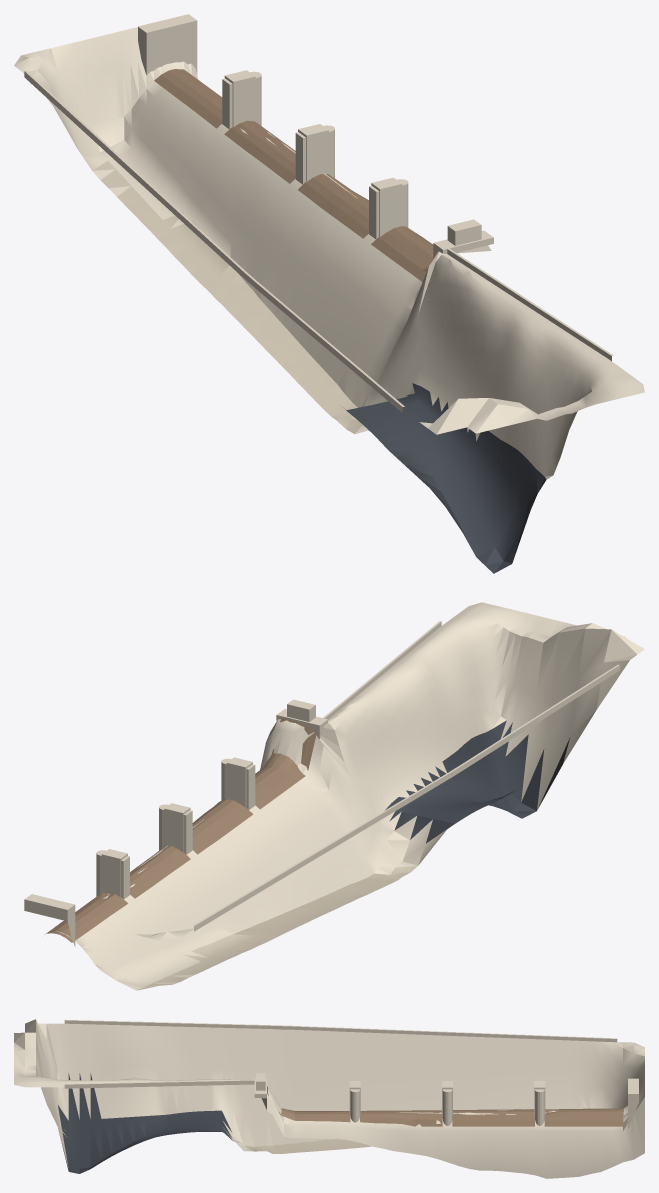
The model's file is lv-hoover-dam-nevada-spillway.glb.
3 renders of one model, top to bottom at view 1: azimuth 30°, elevation 25°; view 2: azimuth 150°, elevation 25°; view 3: azimuth 270°, elevation 25°, orthographic. The views are drawn at different scales.
Visible parts, largest first — view 1: Nevada Spillway; view 2: Nevada Spillway; view 3: Nevada Spillway.
Boxes of the visible parts, left/top/right/bottom form: Nevada Spillway: left=14, top=14, right=644, bottom=573; Nevada Spillway: left=24, top=602, right=644, bottom=990; Nevada Spillway: left=14, top=1019, right=644, bottom=1178.
Bounding box in the file's own units: 66.34 × 53.11 × 231.
